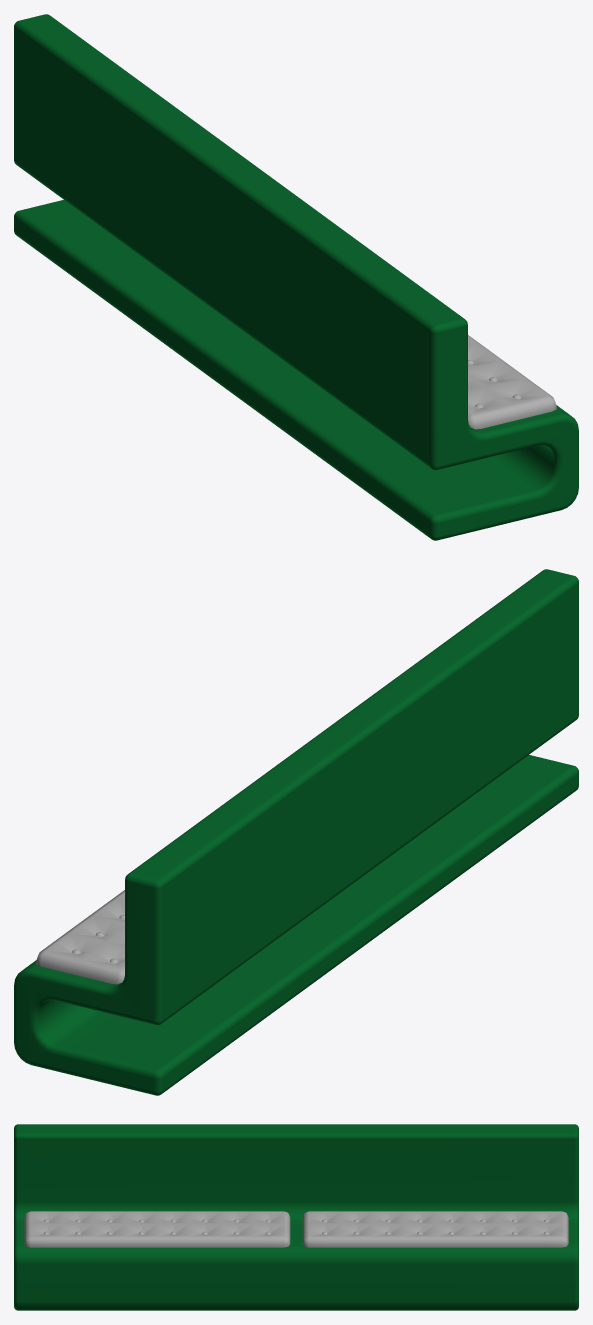
File: Seat_4x.fbx
The picture shows the model from 3 angles, top to bottom: view 1: azimuth 30°, elevation 25°; view 2: azimuth 150°, elevation 25°; view 3: azimuth 270°, elevation 25°; orthographic projection. The views are drawn at different scales.
Visible parts, largest first — view 1: Seat_4x13, polySurface31; view 2: Seat_4x13, polySurface33; view 3: Seat_4x13, polySurface31, polySurface33.
Part boxes in pixels (left/top/right/bottom): Seat_4x13: left=14, top=14, right=578, bottom=540; polySurface31: left=468, top=335, right=556, bottom=429; Seat_4x13: left=14, top=569, right=578, bottom=1095; polySurface33: left=36, top=890, right=124, bottom=984; Seat_4x13: left=14, top=1124, right=578, bottom=1310; polySurface31: left=24, top=1211, right=290, bottom=1247; polySurface33: left=302, top=1211, right=568, bottom=1247.
Size of the model in its own units: 12.93 by 17.94 by 63.73.
